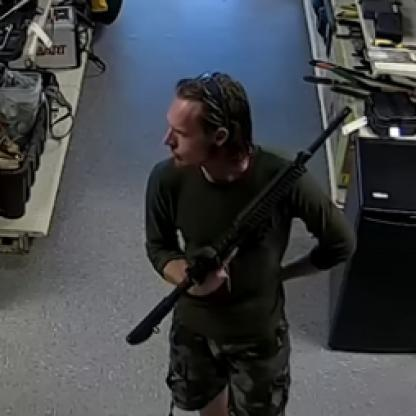criminal: (124, 71, 356, 416)
weapon: (124, 102, 356, 347)
